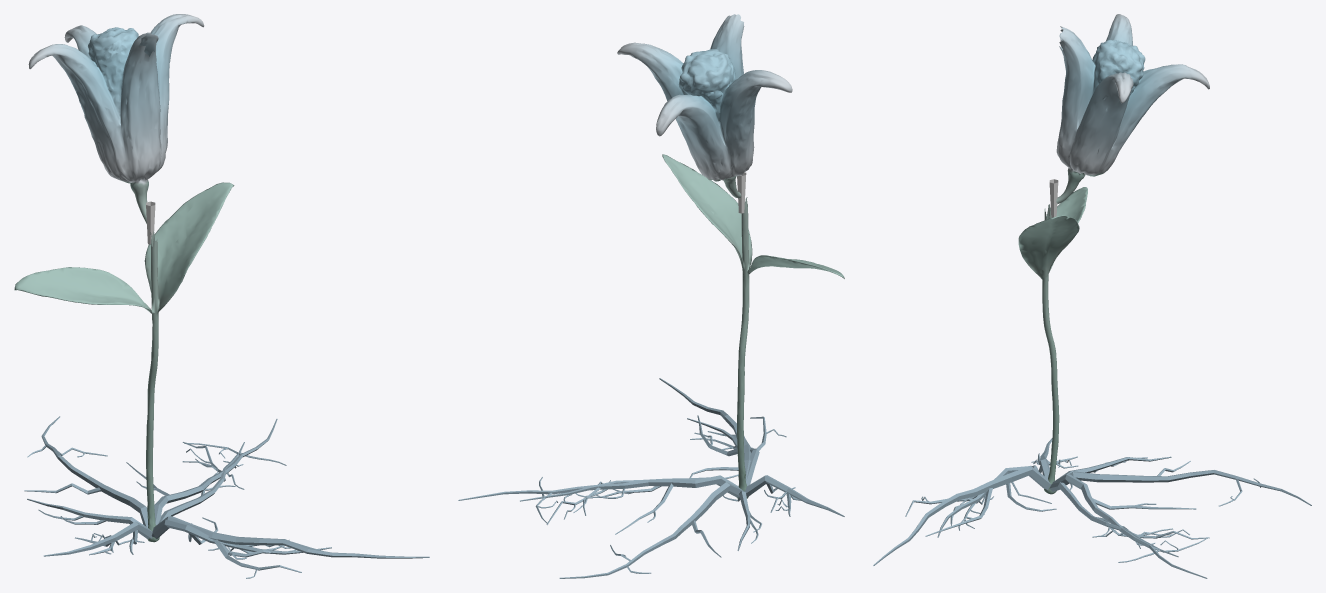
The model's file is frost_flower.glb.
3 views of the same model, side by side, from view 1: azimuth 30°, elevation 25°; view 2: azimuth 150°, elevation 25°; view 3: azimuth 270°, elevation 25° (orthographic). The views are drawn at different scales.
Parts seen in each view (by area): view 1: clementis flower, root_25, root_1, root_40, root_20, root_10, root_33, root_6; view 2: clementis flower, root_40, root_1, root_10, root_25; view 3: clementis flower, root_1, root_25, root_40, root_33.
Boxes of the visible parts, x1,y1,x2,y2 form: clementis flower: (14,14,234,542); root_25: (151,516,429,558); root_1: (41,416,148,527); root_40: (154,419,277,525); root_20: (152,519,331,554); root_10: (43,521,152,556); root_33: (158,442,244,523); root_6: (27,498,145,526); clementis flower: (617,14,844,498); root_40: (458,475,738,500); root_1: (559,482,743,578); root_10: (745,475,844,516); root_25: (659,378,751,485); clementis flower: (1018,14,1209,494); root_1: (1056,470,1311,505); root_25: (873,465,1050,565); root_40: (1052,474,1207,578); root_33: (1049,482,1178,557).
Bounding box in the file's own units: 0.4861 × 0.7062 × 0.6033.
